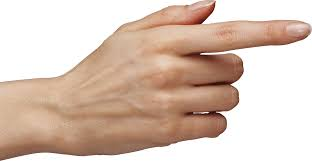hand: (15, 1, 312, 159)
